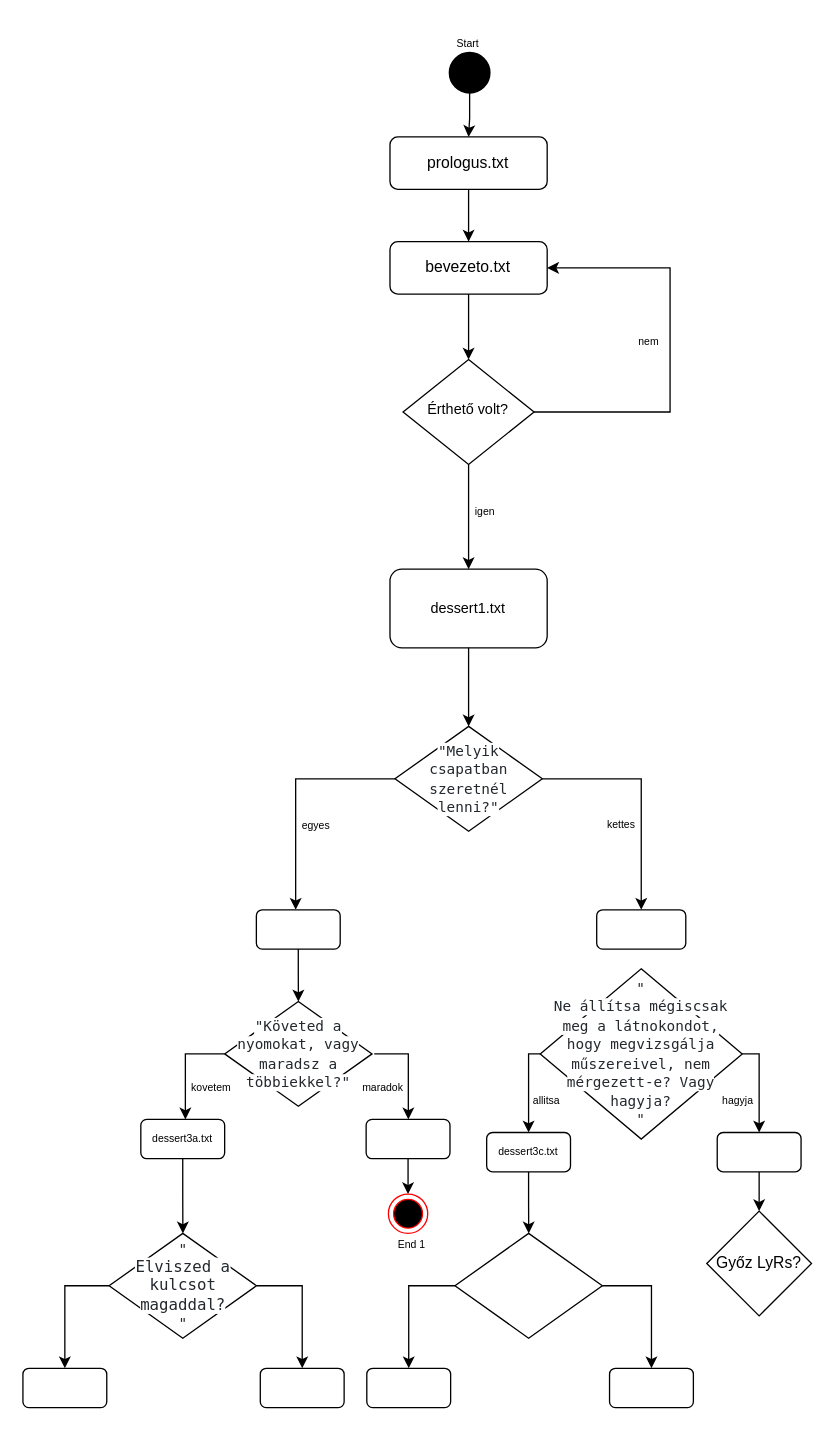
This 834x1431 diagram has some shape labels left out. Each missing label, with the centre of its shape:
"//ezüst szobrocska" belongs at point 528,1285.
"dessert2a.txt" belongs at point 297,928.
"dessert2b.txt" belongs at point 640,928.
"dessert3b.txt" belongs at point 407,1138.
"dessert3d.txt" belongs at point 758,1151.
